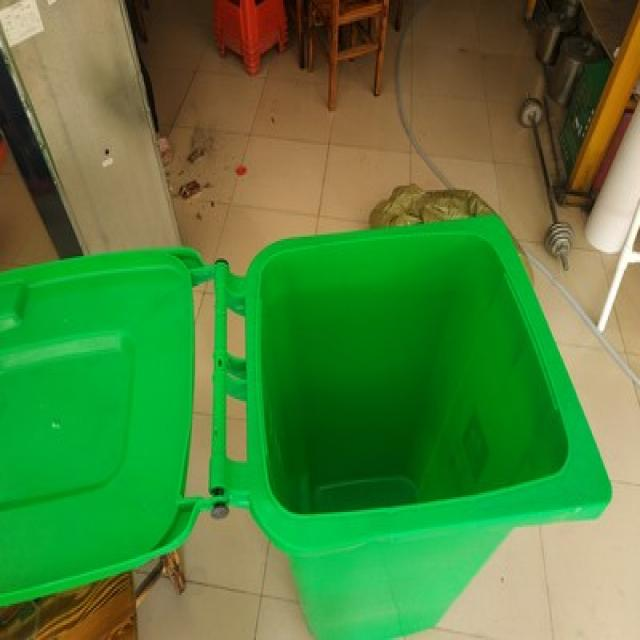ash bin: (4, 200, 610, 638)
